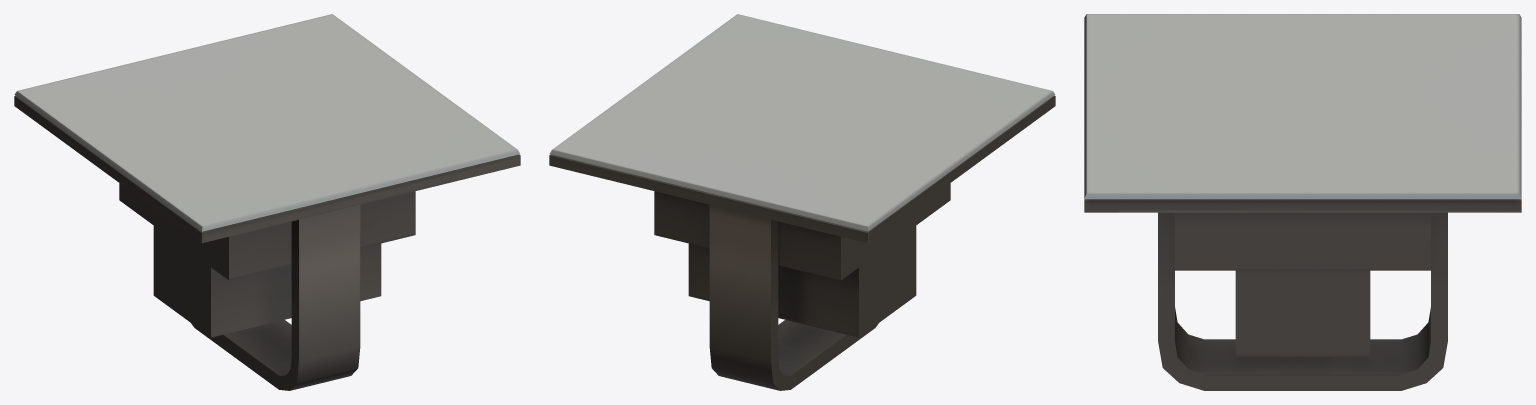
The model's file is Ceiling_Lamp_3__Low-Poly_-(Wavefront).obj.
3 views of the same model, side by side, from view 1: azimuth 30°, elevation 25°; view 2: azimuth 150°, elevation 25°; view 3: azimuth 270°, elevation 25° (orthographic). The views are drawn at different scales.
Parts seen in each view (by area): view 1: Ceiling_Lamp_3_(Low-Poly)_Cube.010; view 2: Ceiling_Lamp_3_(Low-Poly)_Cube.010; view 3: Ceiling_Lamp_3_(Low-Poly)_Cube.010.
Part boxes in pixels (<box>): Ceiling_Lamp_3_(Low-Poly)_Cube.010: <box>14,14,520,390</box>; Ceiling_Lamp_3_(Low-Poly)_Cube.010: <box>549,14,1055,390</box>; Ceiling_Lamp_3_(Low-Poly)_Cube.010: <box>1084,14,1521,390</box>.
Bounding box in the file's own units: 0.3536 × 0.245 × 0.3602.
